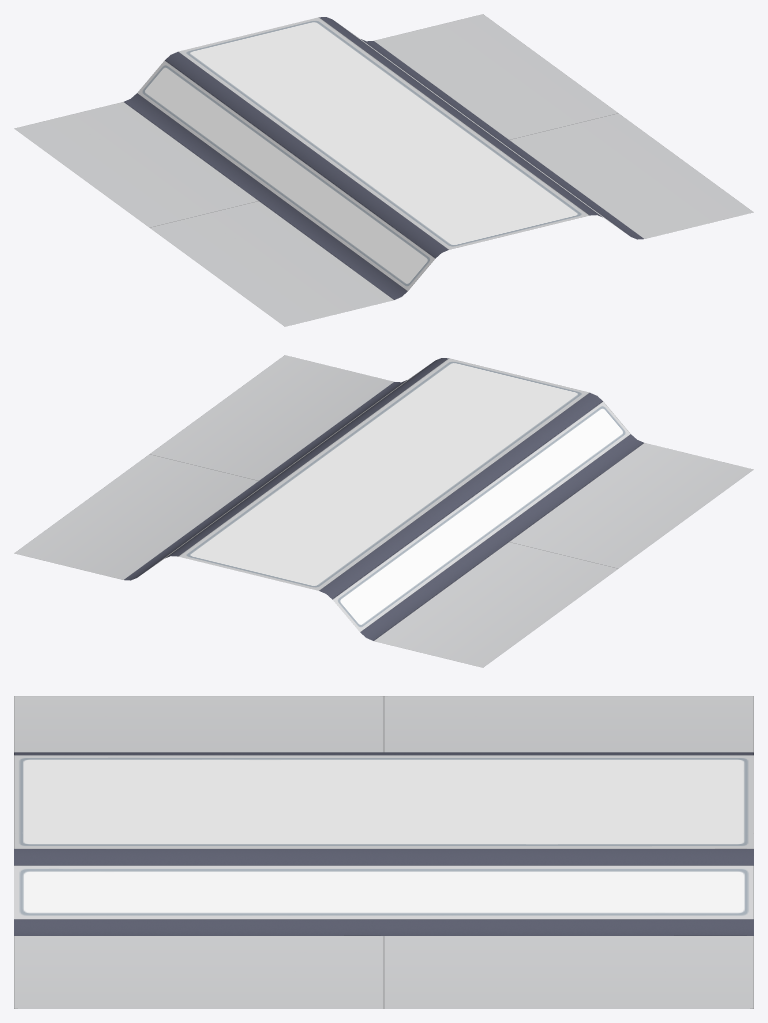
Rendered from Roof_02_LP.FBX.
3 renders of one model, top to bottom at view 1: azimuth 30°, elevation 25°; view 2: azimuth 150°, elevation 25°; view 3: azimuth 270°, elevation 25°, orthographic. The views are drawn at different scales.
Visible parts, largest first — view 1: Roof_02_LP; view 2: Roof_02_LP; view 3: Roof_02_LP.
Boxes of the visible parts, left/top/right/bottom form: Roof_02_LP: left=14, top=14, right=753, bottom=326; Roof_02_LP: left=14, top=355, right=753, bottom=667; Roof_02_LP: left=14, top=696, right=753, bottom=1008.
Size of the model in its own units: 6 by 0.451 by 6.
2 materials, 2 textured.
